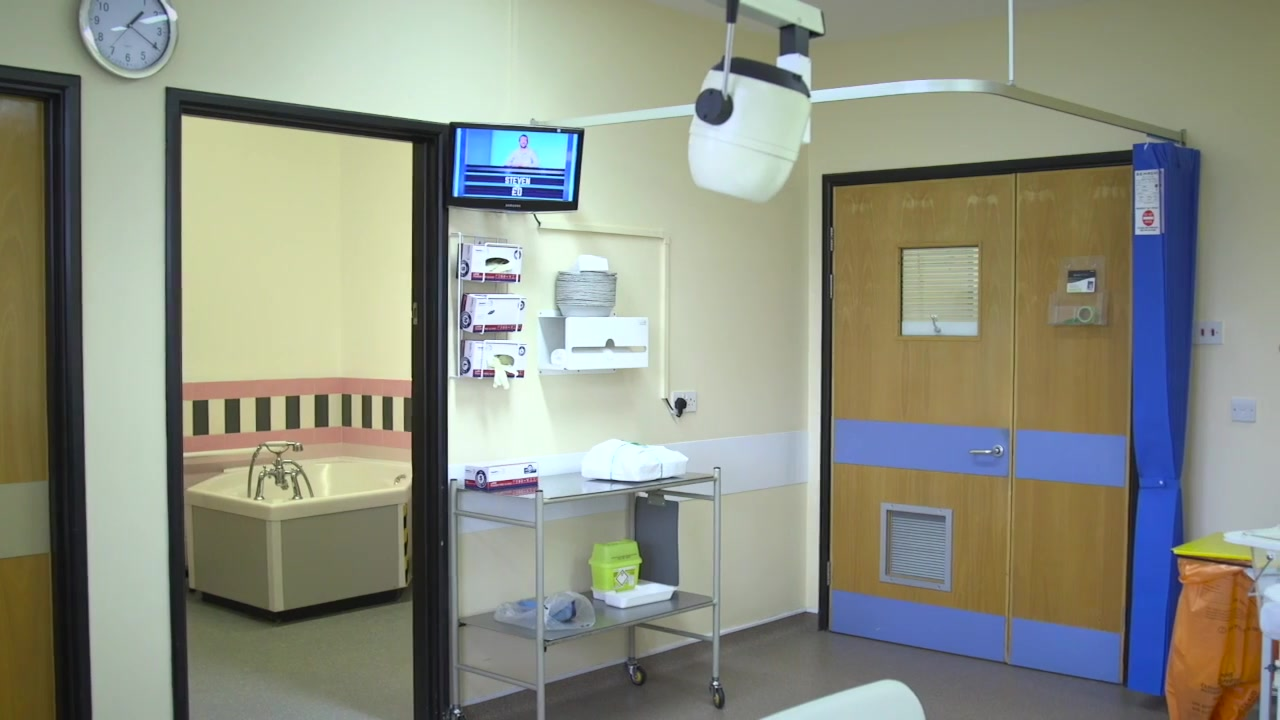TV: (447, 124, 586, 215)
curtain: (1124, 141, 1201, 694)
dispenser: (454, 239, 530, 380)
door_handle: (967, 442, 1002, 460)
restroom_assist_bar: (185, 438, 294, 469)
utility_cart: (452, 461, 722, 720)
waste_bin: (1166, 542, 1268, 720)
